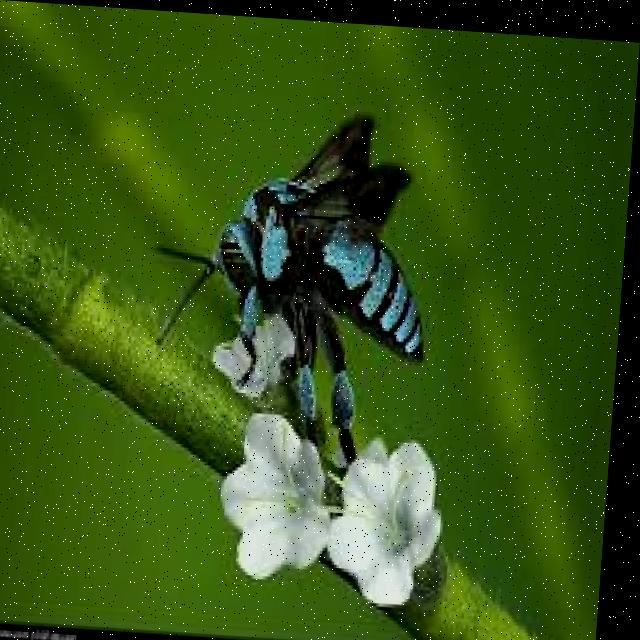Thyreus: (167, 100, 457, 461)
